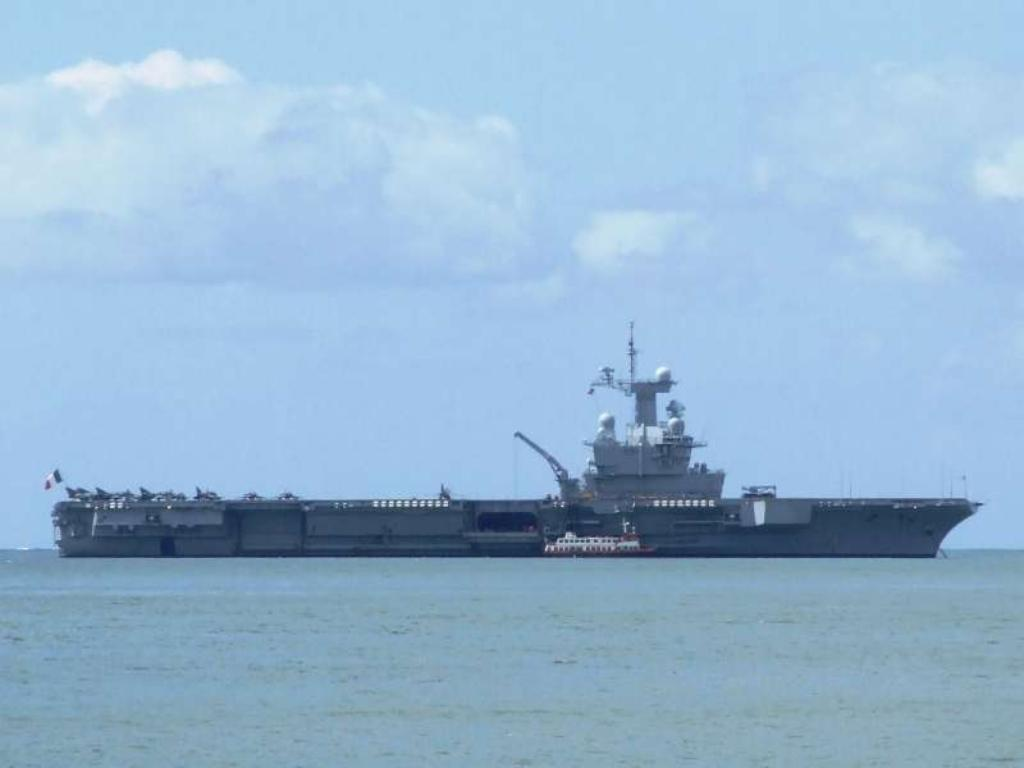PassengerShip: (540, 524, 658, 562)
